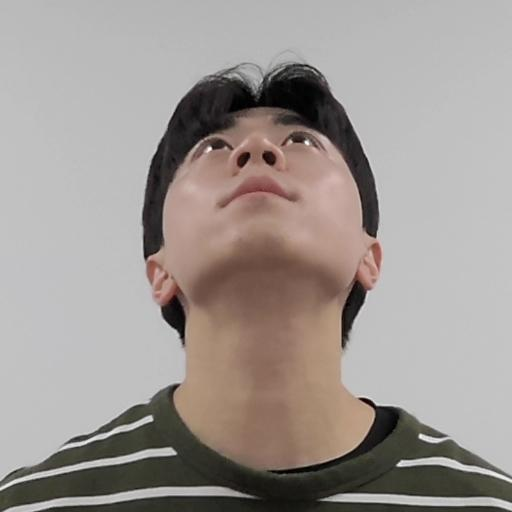no_glasses: (131, 68, 396, 354)
